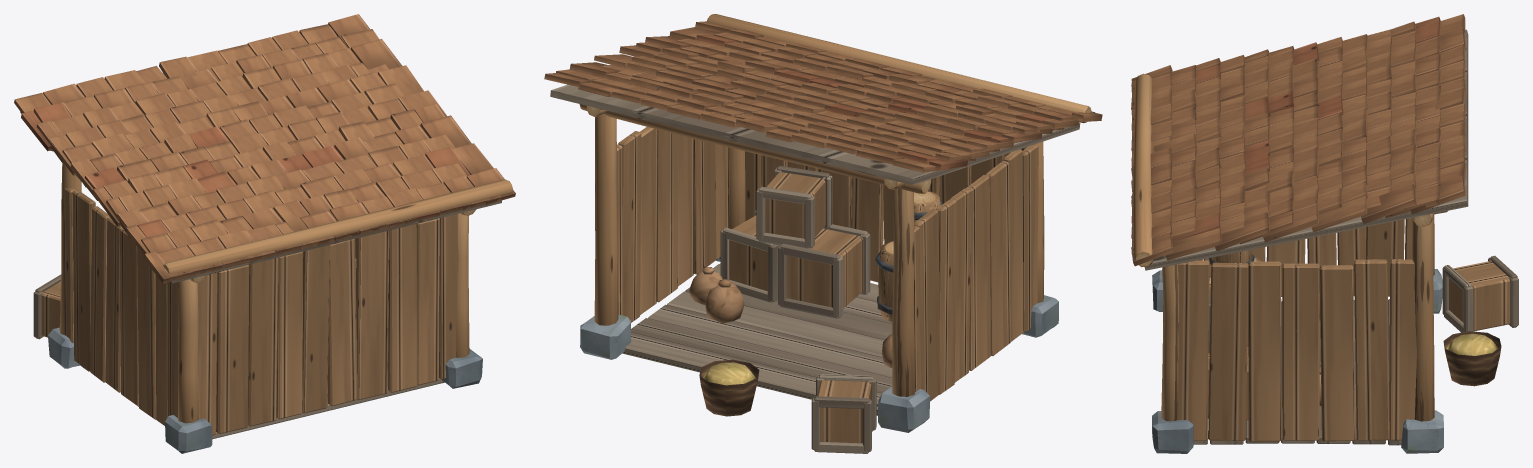
File: bw_storage_pit.fbx
3 views of the same model, side by side, from view 1: azimuth 30°, elevation 25°; view 2: azimuth 150°, elevation 25°; view 3: azimuth 270°, elevation 25° (orthographic). The views are drawn at different scales.
Visible parts, largest first — view 1: bw_storage_pit; view 2: bw_storage_pit; view 3: bw_storage_pit.
Part boxes in pixels (x1,y1,x2,y2): bw_storage_pit: (14, 14, 515, 453); bw_storage_pit: (544, 14, 1102, 453); bw_storage_pit: (1131, 14, 1518, 453).
Bounding box in the file's own units: 2.62 × 1.84 × 2.33.
